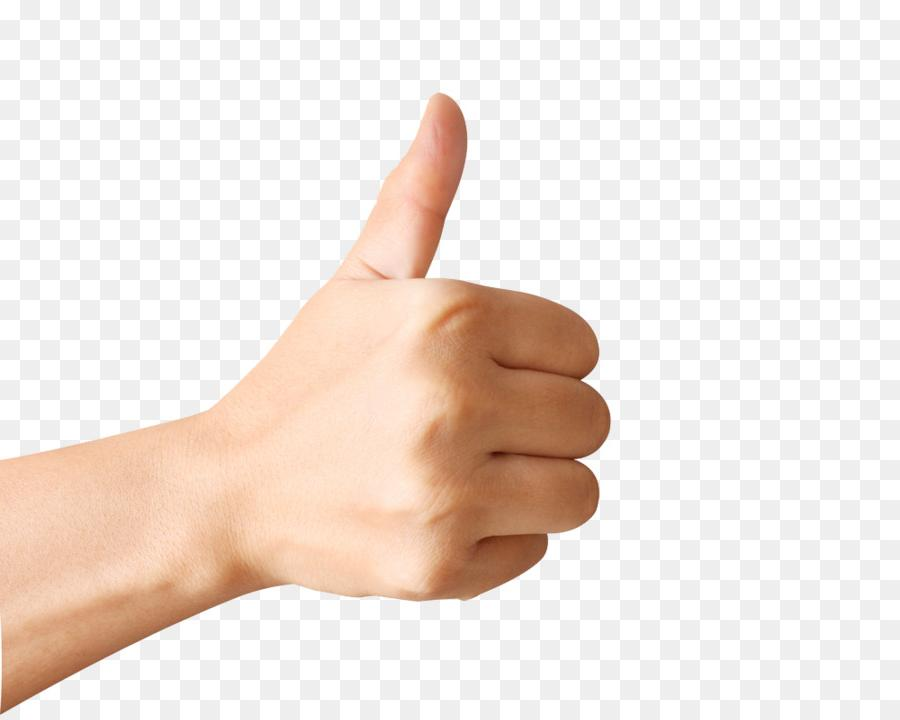thumbsup: (298, 89, 615, 602)
